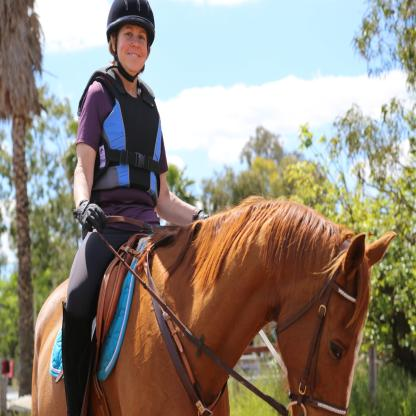Helmet: (99, 3, 153, 76)
